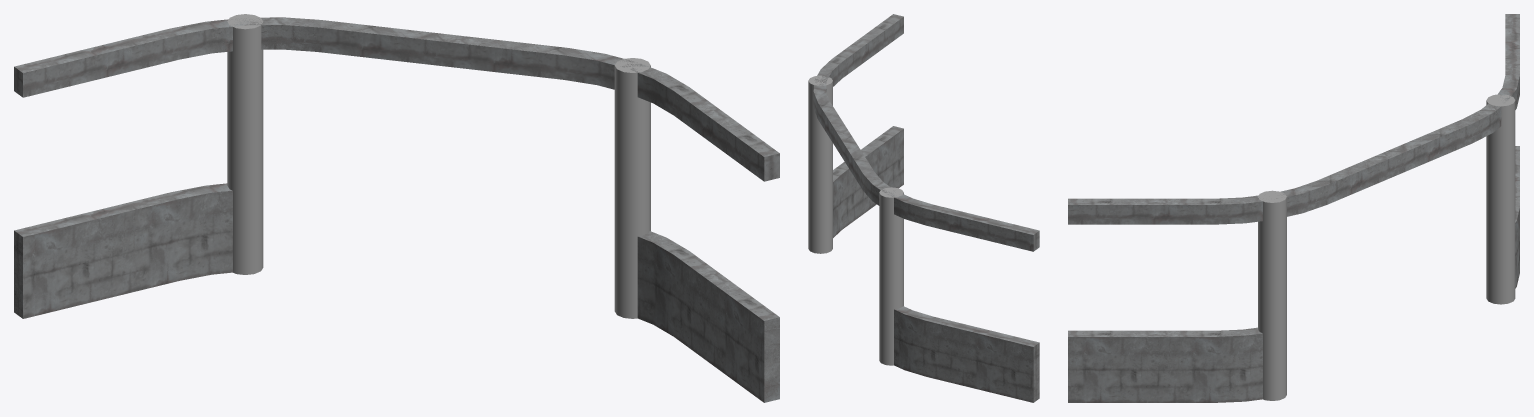
Rendered from Corner_wall_01_01.fbx.
3 renders of one model, left to right at view 1: azimuth 30°, elevation 25°; view 2: azimuth 150°, elevation 25°; view 3: azimuth 270°, elevation 25°, orthographic. The views are drawn at different scales.
Visible parts, largest first — view 1: Corner_wall_01_01; view 2: Corner_wall_01_01; view 3: Corner_wall_01_01.
Boxes of the visible parts, <box> form: Corner_wall_01_01: <box>14,14,779,402</box>; Corner_wall_01_01: <box>808,14,1039,402</box>; Corner_wall_01_01: <box>1068,14,1519,402</box>.
Bounding box in the file's own units: 620 × 300 × 620.
